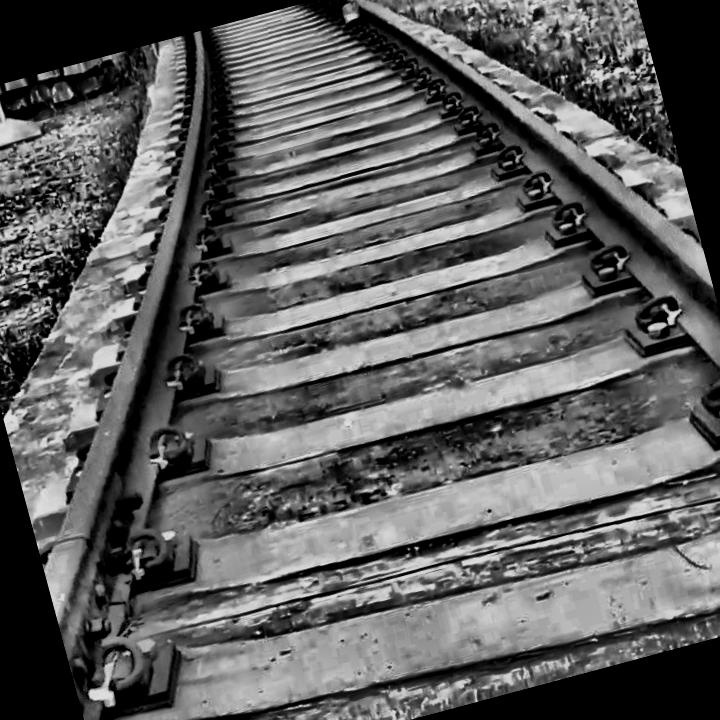Trash: (317, 0, 373, 41)
